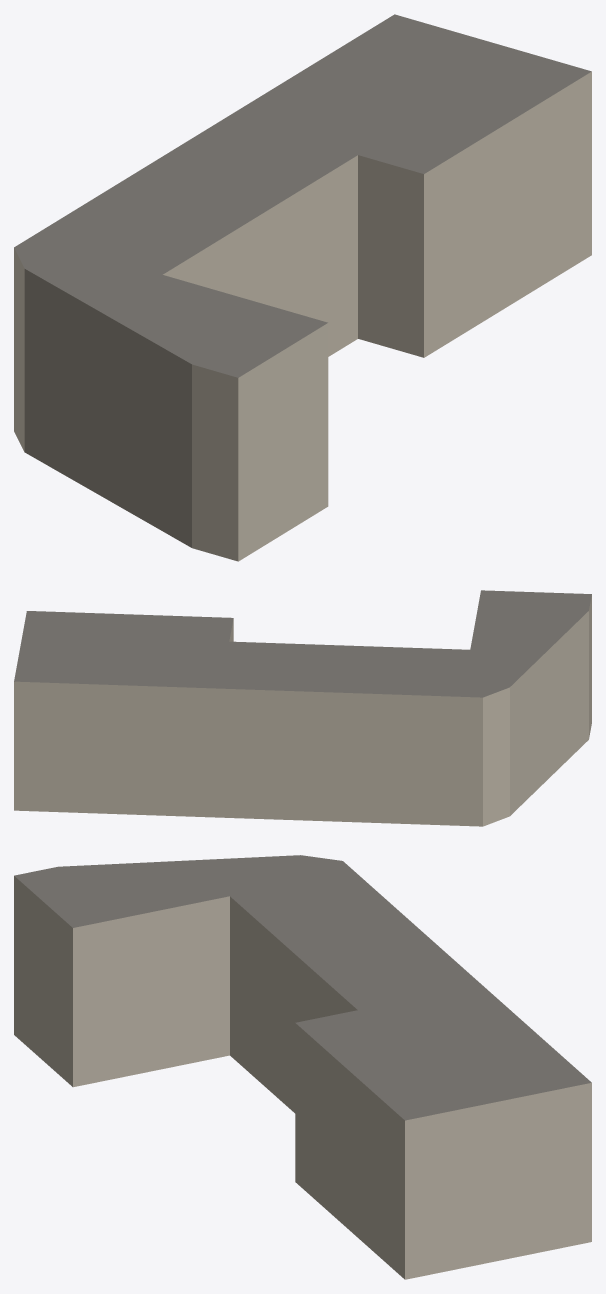
3 renders of one model, top to bottom at view 1: azimuth 30°, elevation 25°; view 2: azimuth 150°, elevation 25°; view 3: azimuth 270°, elevation 25°, orthographic. The views are drawn at different scales.
Visible parts, largest first — view 1: HP-w792395360; view 2: HP-w792395360; view 3: HP-w792395360.
Part boxes in pixels (box(x1,y1,x2,y2)): HP-w792395360: box(14, 14, 591, 561); HP-w792395360: box(14, 590, 591, 826); HP-w792395360: box(14, 855, 591, 1279).
Bounding box in the file's own units: 64.34 × 18 × 59.21.
